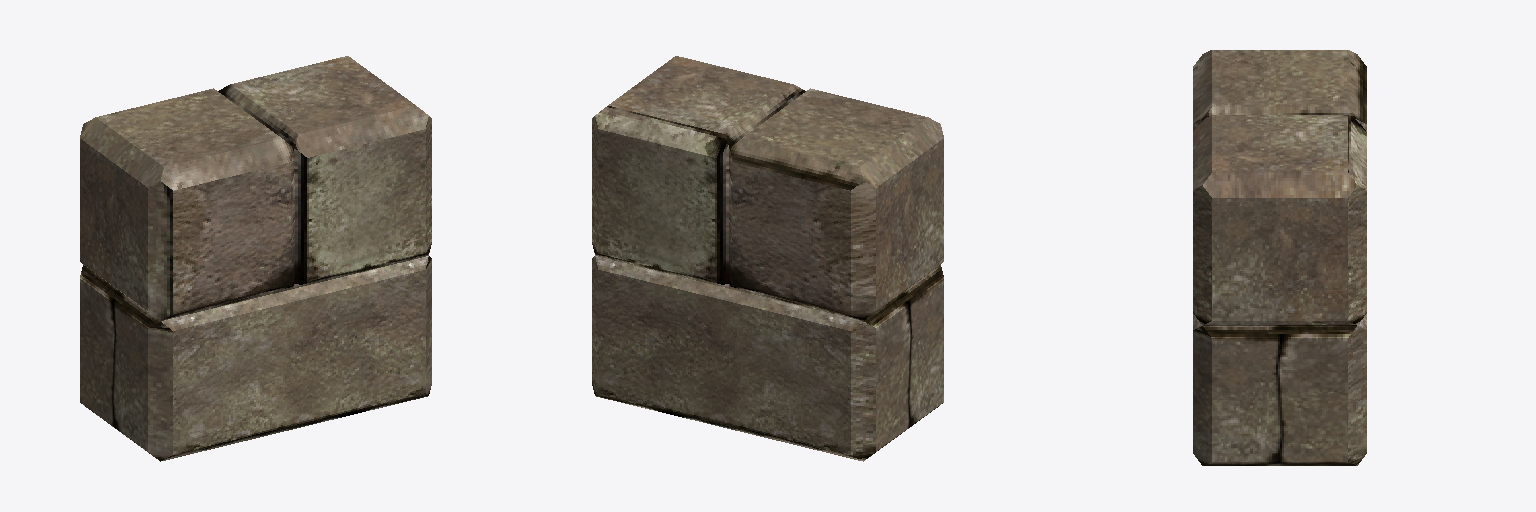
3 views of the same model, side by side, from view 1: azimuth 30°, elevation 25°; view 2: azimuth 150°, elevation 25°; view 3: azimuth 270°, elevation 25° (orthographic).
Visible parts, largest first — view 1: Box003; view 2: Box003; view 3: Box003.
Boxes of the visible parts, box(x1,y1,x2,y2) form: Box003: box(80, 56, 431, 461); Box003: box(592, 56, 943, 461); Box003: box(1193, 50, 1366, 465).
Size of the model in its own units: 1.06 by 1.03 by 0.56.
1 materials, 1 textured.